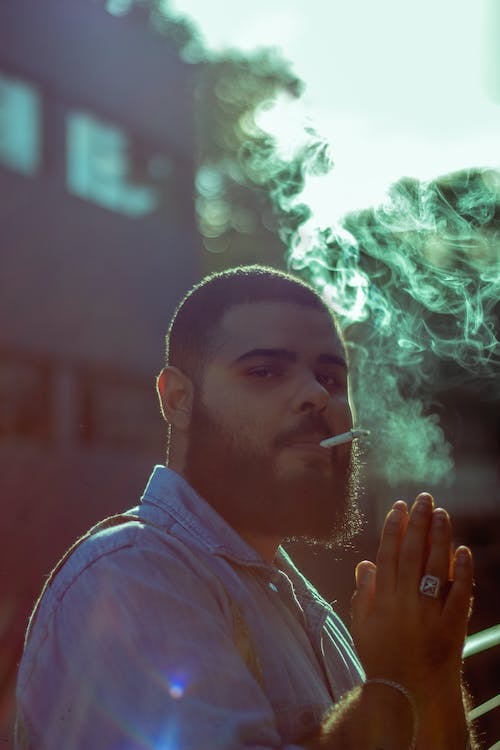cigarette: (317, 423, 374, 451)
